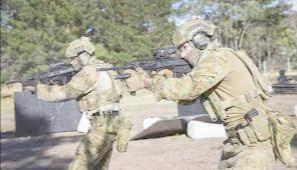gun: (94, 47, 188, 74)
